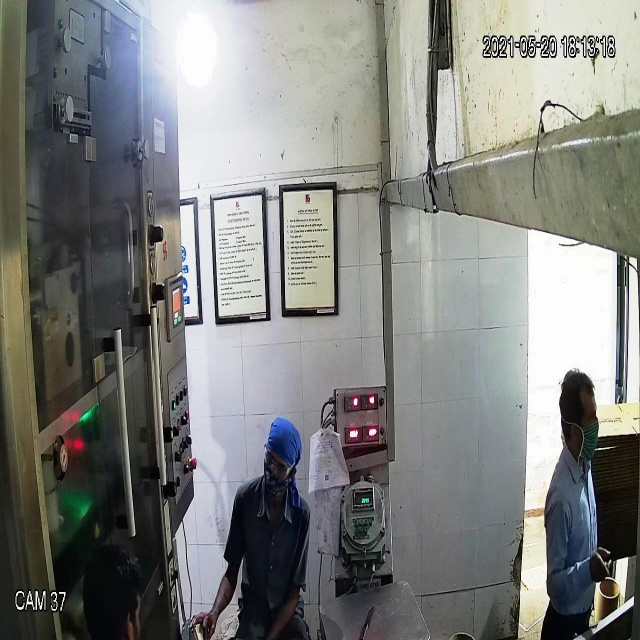Gafas: (260, 442, 294, 483)
Sin_gafas: (561, 404, 601, 436)
